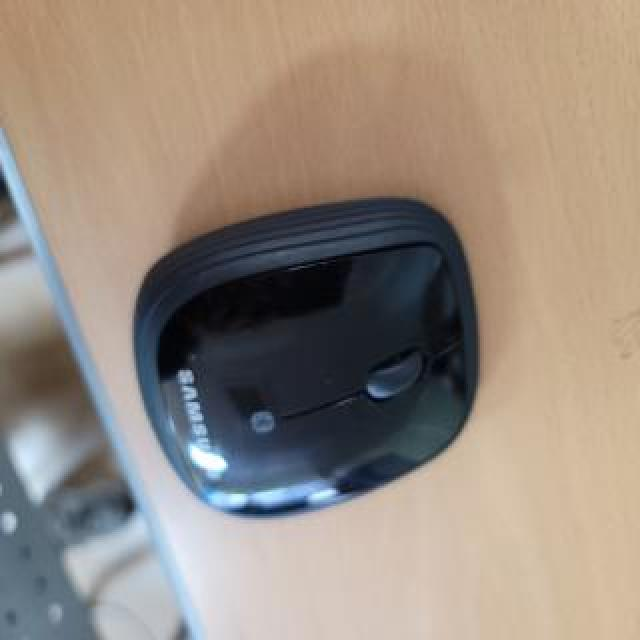mouse: (149, 188, 506, 542)
